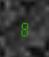eight: (19, 20, 28, 36)
